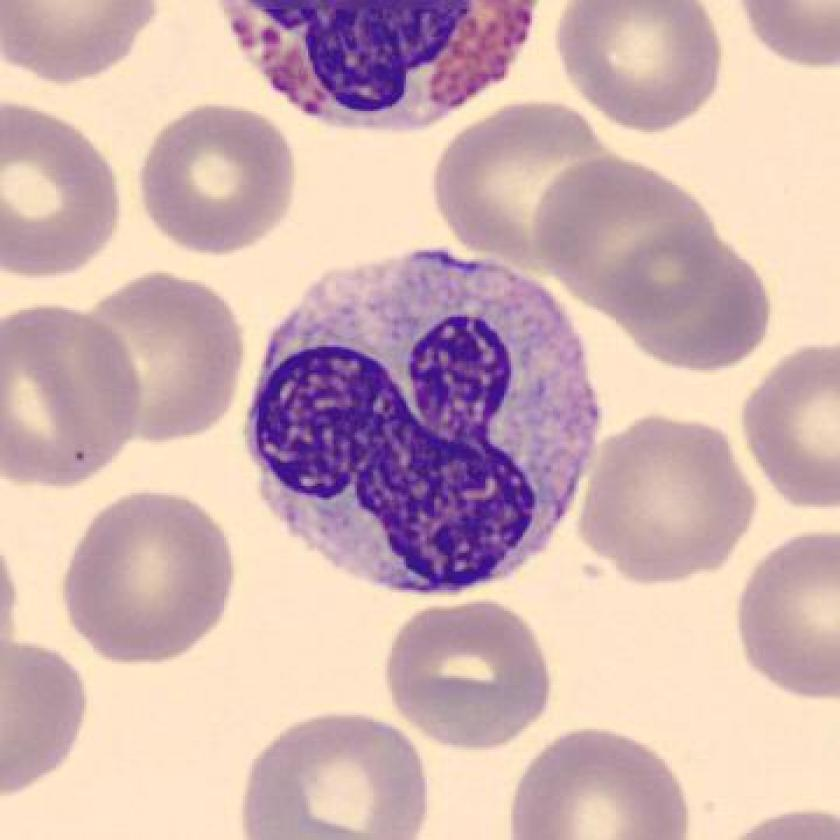monocyte: (220, 228, 624, 617)
